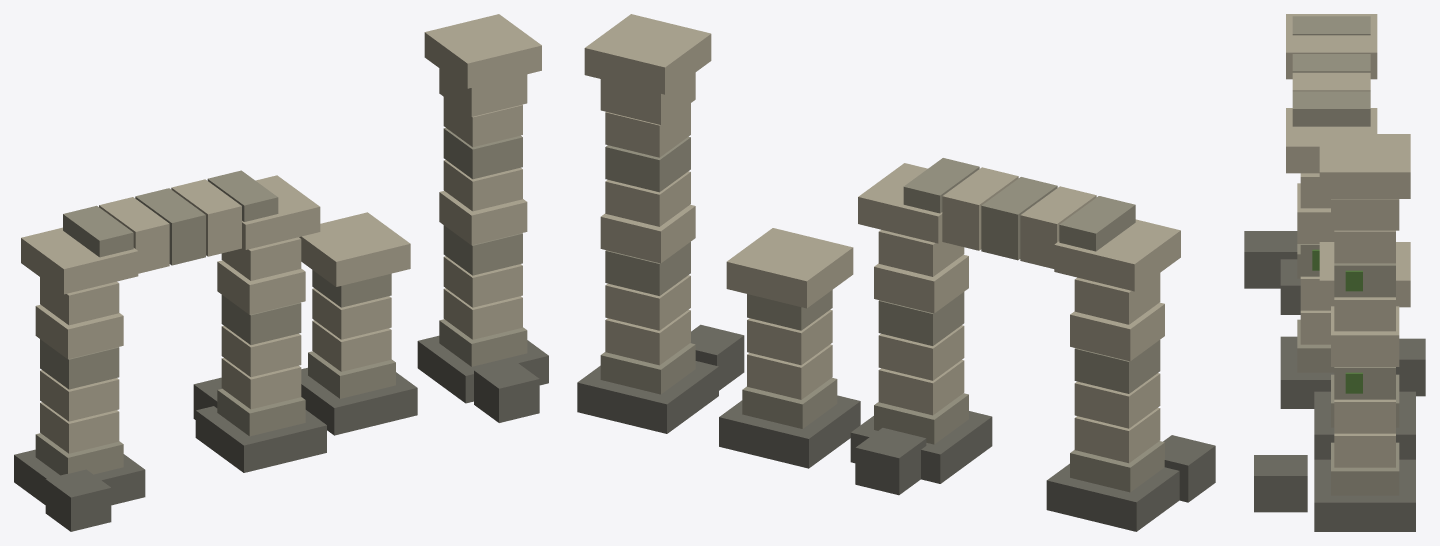
Rendered from underwater_ruins.glb.
3 renders of one model, left to right at view 1: azimuth 30°, elevation 25°; view 2: azimuth 150°, elevation 25°; view 3: azimuth 270°, elevation 25°, orthographic. The views are drawn at different scales.
Visible parts, largest first — view 1: arch__stone2.001, tall_column__stone2.001, arch__stone.001, short_column__stone2.001, arch__stone_dark.001, tall_column__stone.001, body__stone_dark.003, short_column__stone_dark.001, short_column__stone.001, tall_column__stone_dark.001; view 2: arch__stone2.001, tall_column__stone2.001, arch__stone.001, short_column__stone2.001, arch__stone_dark.001, tall_column__stone.001, body__stone_dark.003, tall_column__stone_dark.001, short_column__stone_dark.001, short_column__stone.001; view 3: tall_column__stone2.001, arch__stone2.001, arch__stone.001, body__stone_dark.003, tall_column__stone.001, tall_column__stone_dark.001, arch__stone_dark.001, short_column__stone_dark.001, short_column__stone2.001, tall_column__leaf.001, short_column__stone.001.
Boxes of the visible parts, left/top/right/bottom form: arch__stone2.001: left=21, top=175, right=320, bottom=453; tall_column__stone2.001: left=424, top=14, right=541, bottom=339; arch__stone.001: left=35, top=170, right=305, bottom=475; short_column__stone2.001: left=299, top=212, right=410, bottom=371; arch__stone_dark.001: left=14, top=406, right=326, bottom=505; tall_column__stone.001: left=439, top=128, right=527, bottom=366; body__stone_dark.003: left=45, top=360, right=539, bottom=531; short_column__stone_dark.001: left=301, top=367, right=417, bottom=435; short_column__stone.001: left=308, top=270, right=395, bottom=398; tall_column__stone_dark.001: left=417, top=335, right=548, bottom=403; arch__stone2.001: left=858, top=163, right=1180, bottom=463; tall_column__stone2.001: left=584, top=14, right=711, bottom=365; arch__stone.001: left=874, top=158, right=1164, bottom=492; short_column__stone2.001: left=726, top=228, right=853, bottom=399; arch__stone_dark.001: left=850, top=411, right=1179, bottom=531; tall_column__stone.001: left=600, top=136, right=695, bottom=394; body__stone_dark.003: left=691, top=324, right=1215, bottom=502; tall_column__stone_dark.001: left=577, top=361, right=718, bottom=433; short_column__stone_dark.001: left=719, top=395, right=860, bottom=468; short_column__stone.001: left=742, top=290, right=837, bottom=428; tall_column__stone2.001: left=1319, top=134, right=1410, bottom=467; arch__stone2.001: left=1286, top=14, right=1377, bottom=344; arch__stone.001: left=1292, top=16, right=1370, bottom=372; body__stone_dark.003: left=1244, top=231, right=1425, bottom=512; tall_column__stone.001: left=1331, top=263, right=1399, bottom=495; tall_column__stone_dark.001: left=1314, top=459, right=1415, bottom=531; arch__stone_dark.001: left=1280, top=259, right=1334, bottom=408; short_column__stone_dark.001: left=1314, top=391, right=1415, bottom=459; short_column__stone2.001: left=1319, top=242, right=1410, bottom=307; tall_column__leaf.001: left=1345, top=270, right=1362, bottom=393; short_column__stone.001: left=1331, top=374, right=1399, bottom=427.
Bounding box in the file's own units: 4.67 × 2.94 × 1.35.
